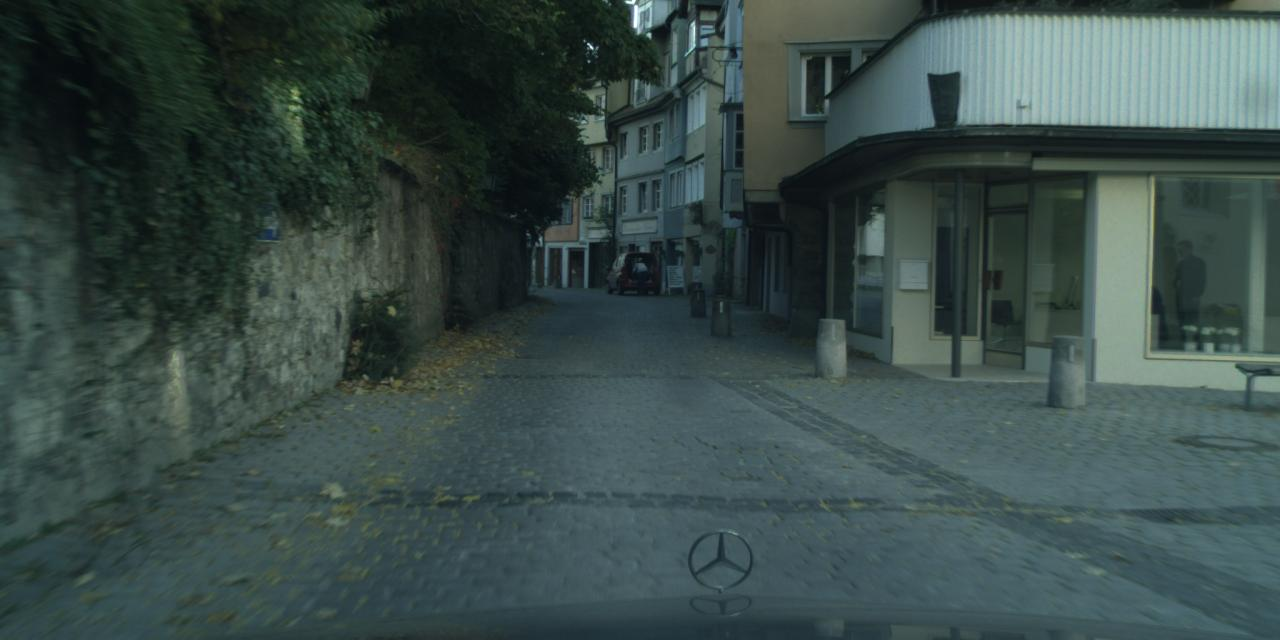ped: (634, 260, 647, 294)
